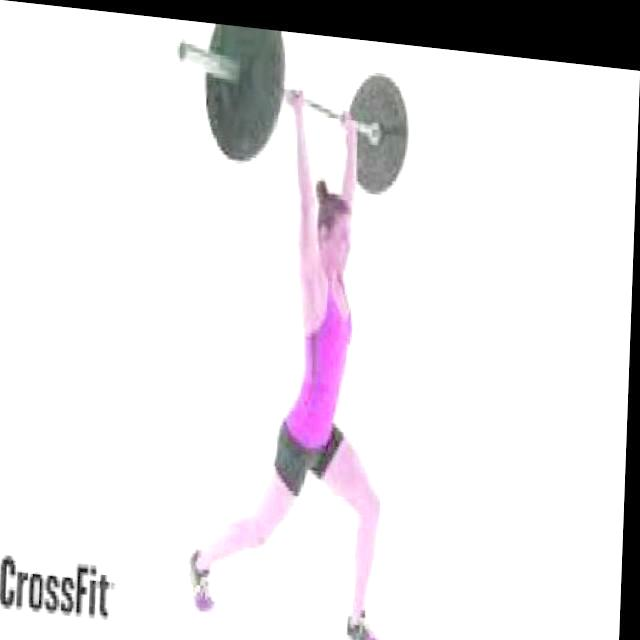barbell: (173, 34, 292, 166)
